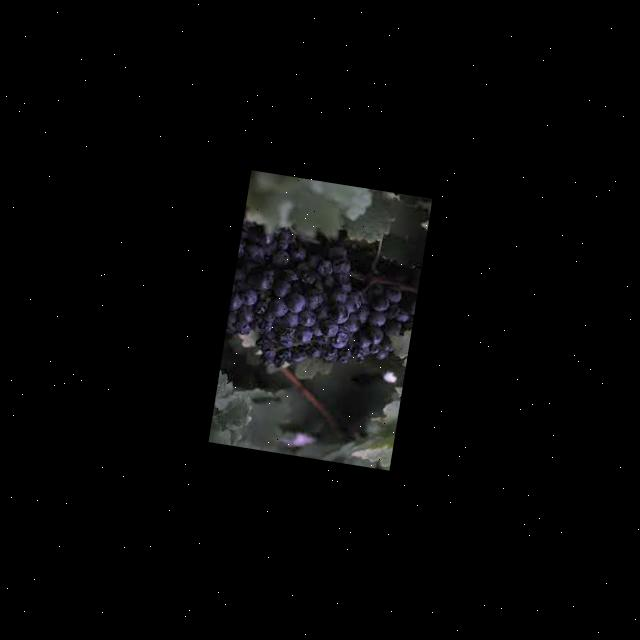grape: (222, 214, 425, 388)
